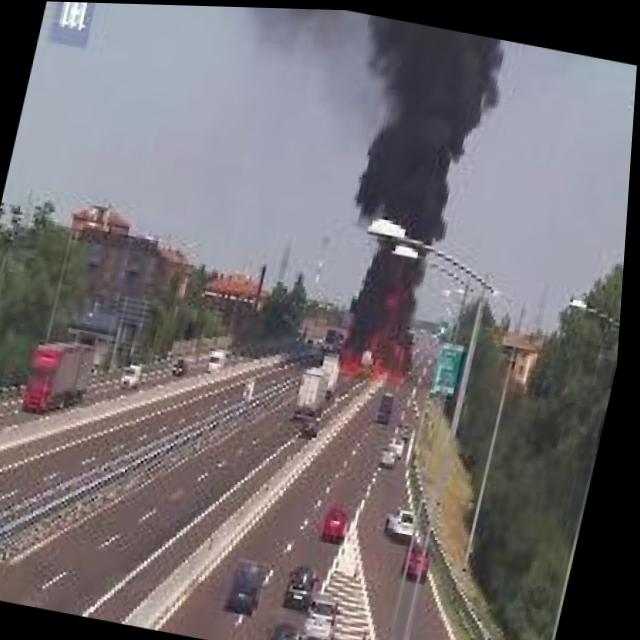fire: (340, 268, 439, 387)
